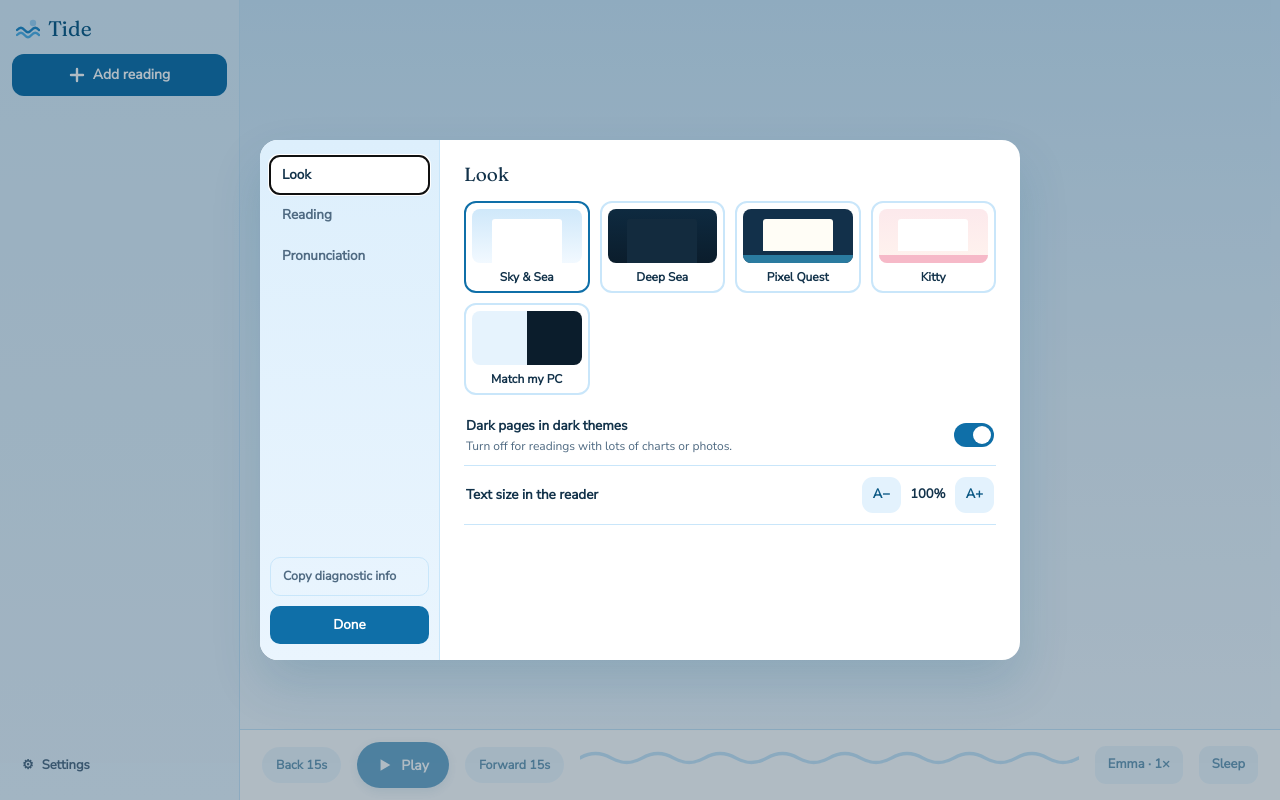
Test: Settings dialog › A+ steps zoom by the same step as the menu and shows the new %
Expected: the dialog named "Settings" is shown, [260,140,1020,660]
Click the button named "Larger text". click: {"x": 974, "y": 495}
box: [955,477,994,513]
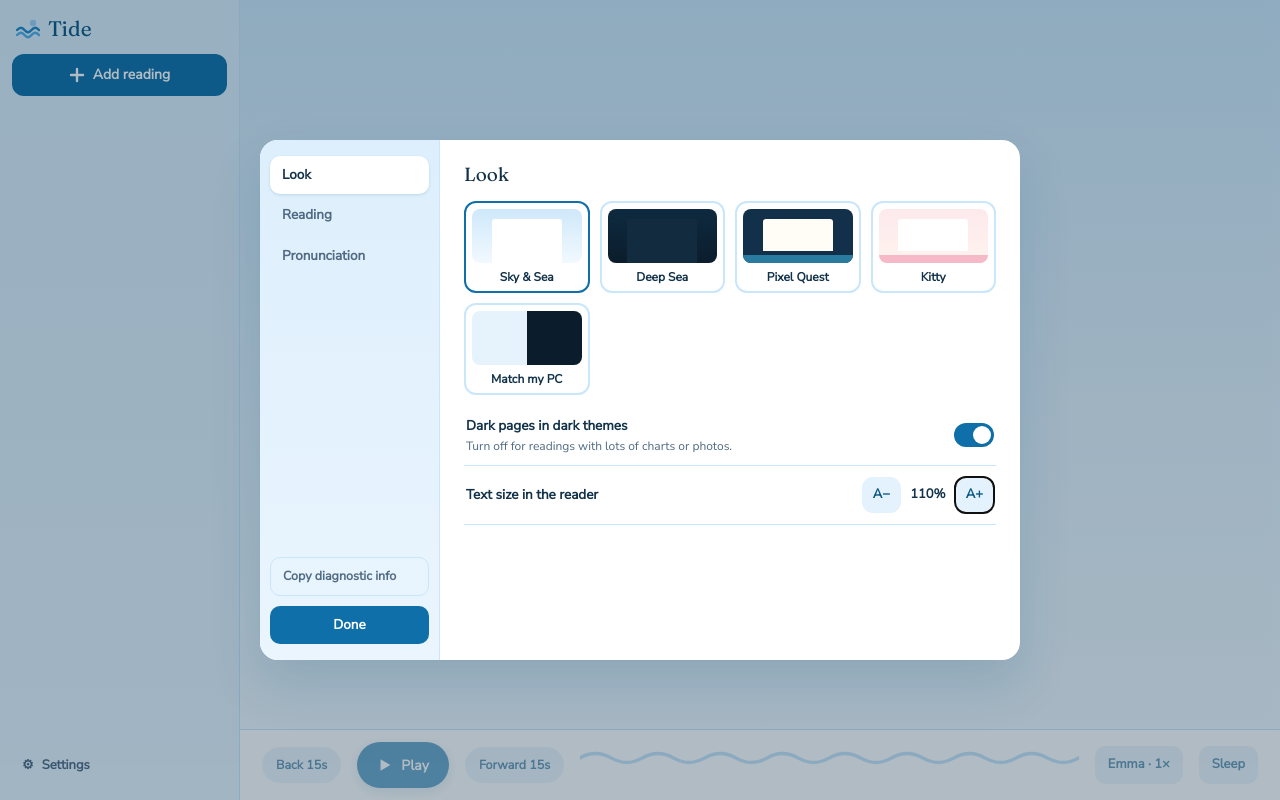
Now the text "110%" is shown, box [907,485,949,504]
